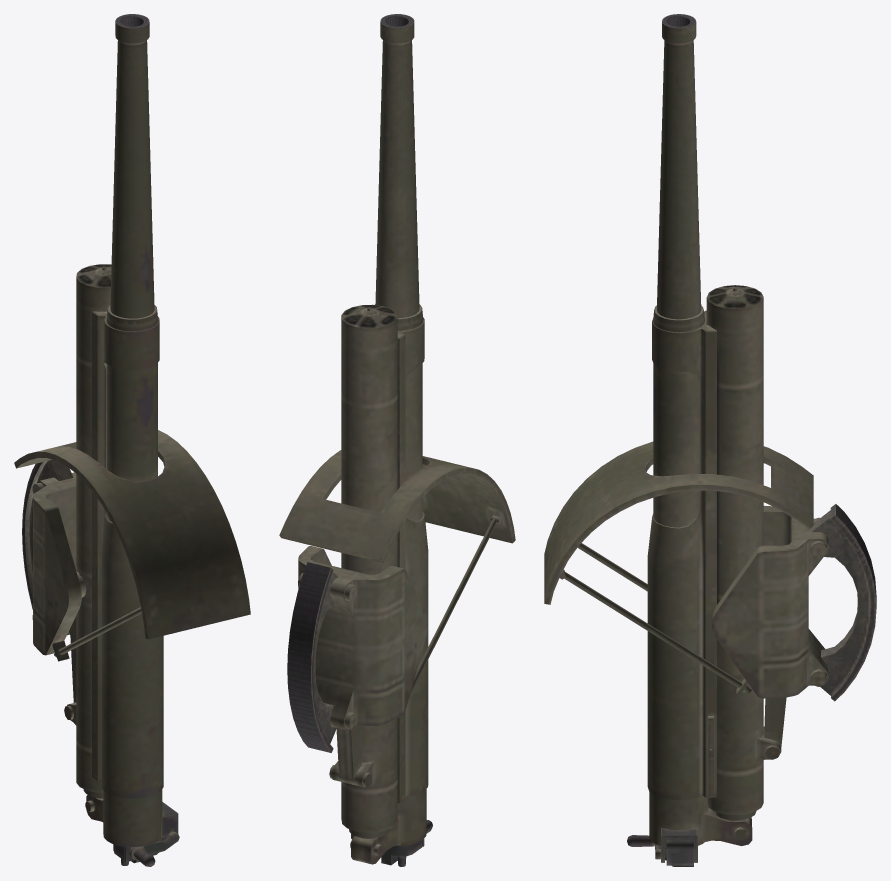
Rendered from Gun_01.glb.
3 renders of one model, left to right at view 1: azimuth 30°, elevation 25°; view 2: azimuth 150°, elevation 25°; view 3: azimuth 270°, elevation 25°, orthographic.
Visible parts, largest first — view 1: set_0_group_0; view 2: set_0_group_0; view 3: set_0_group_0.
Boxes of the visible parts, box(x1,y1,x2,y2) form: set_0_group_0: box(14, 14, 250, 866); set_0_group_0: box(279, 14, 515, 866); set_0_group_0: box(544, 14, 876, 866).
Bounding box in the file's own units: 0.3849 × 3.03 × 1.08.
1 material, 1 textured.
